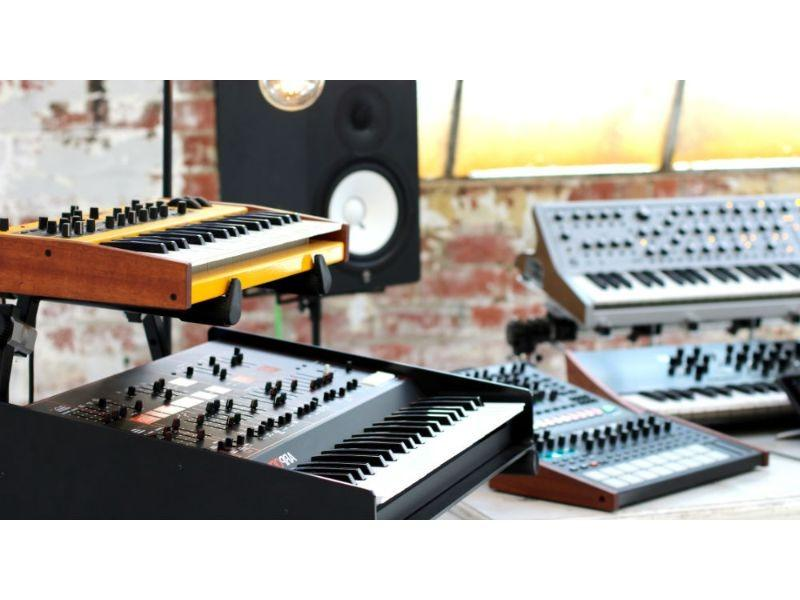synthesizer: (13, 334, 529, 507), (0, 180, 362, 311), (528, 182, 792, 307), (568, 337, 791, 411)
